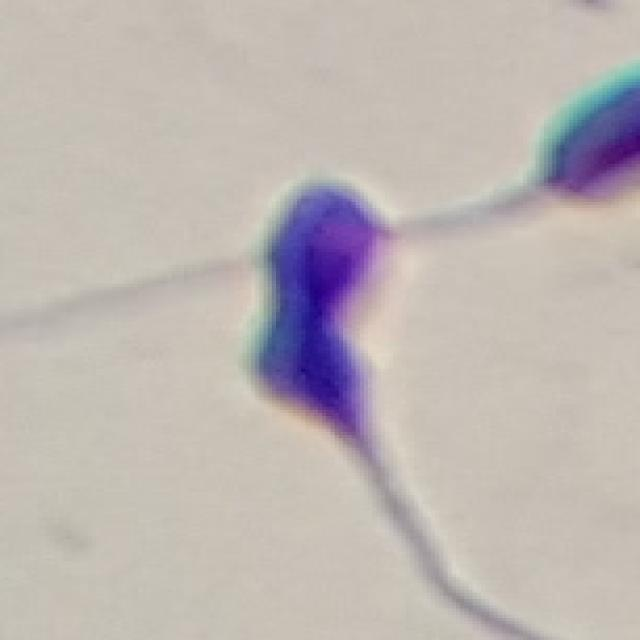abnormal sperm: (243, 173, 423, 540)
